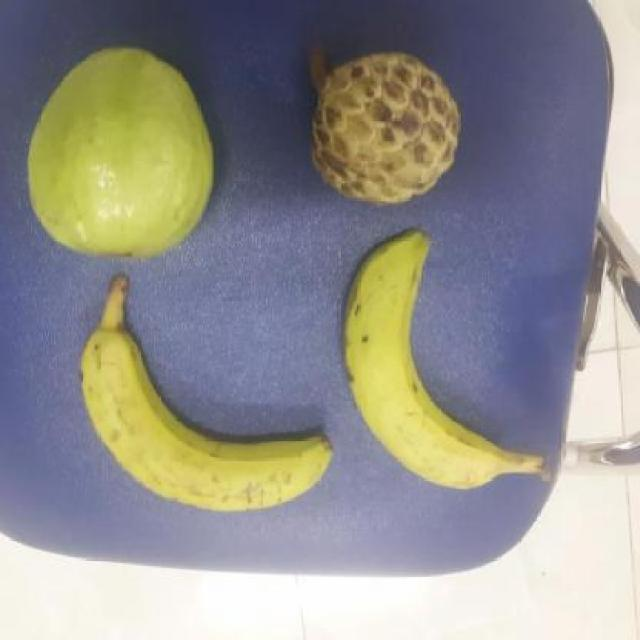banana: (71, 320, 354, 515), (334, 229, 524, 502)
guava: (25, 42, 222, 262)
sugar apple: (304, 48, 467, 205)
